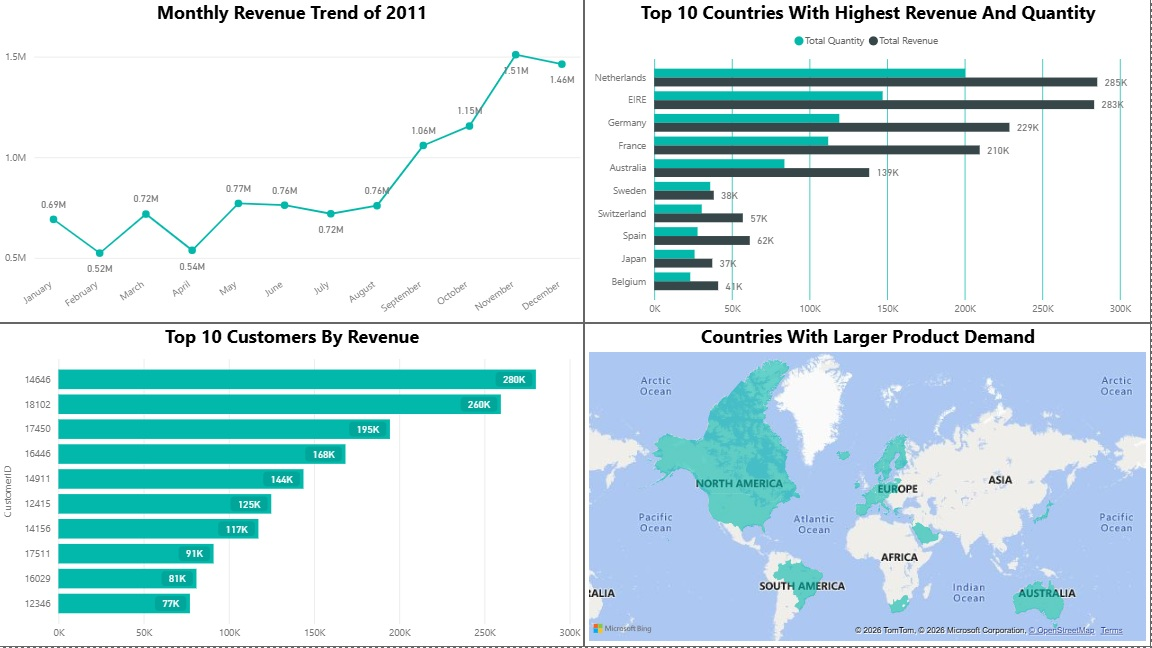

What the dashboard file says about the page in this screenshot:
{"tool":"powerbi","page":{"name":"Page 1","canvas":[1280,720],"ordinal":0},"visuals":[{"type":"lineChart","title":"Monthly Revenue Trend of 2011","fields":{"Y":["Online Retail.Total_Revenue"],"Category":["Online Retail.InvoiceDate.Variation.Date Hierarchy.Year","Online Retail.InvoiceDate.Variation.Date Hierarchy.Quarter","Online Retail.InvoiceDate.Variation.Date Hierarchy.Month","Online Retail.InvoiceDate.Variation.Date Hierarchy.Day"]},"box":[0,0,650,360],"z":0},{"type":"clusteredBarChart","title":"Top 10 Countries With Highest Revenue And Quantity","fields":{"Category":["Online Retail.Country"],"Y":["Sum(Online Retail.Quantity)","Online Retail.Total_Revenue"]},"box":[650,0,630,360],"z":1},{"type":"clusteredBarChart","title":"Top 10 Customers By Revenue","fields":{"Category":["Online Retail.CustomerID"],"Y":["Online Retail.Total_Revenue"]},"box":[0,360,650,360],"z":2},{"type":"filledMap","title":"Countries With Larger Product Demand ","fields":{"Category":["Online Retail.Country"]},"box":[650,360,630,360],"z":3}]}

Visuals, with their boxes in screenshot pixels (x1, y1, x2, y2), scaled from the page's 1280x720 canvas onto the 1152x648 screenshot:
"Monthly Revenue Trend of 2011" lineChart: {"left": 0, "top": 0, "right": 585, "bottom": 324}
"Top 10 Countries With Highest Revenue And Quantity" clusteredBarChart: {"left": 585, "top": 0, "right": 1151, "bottom": 324}
"Top 10 Customers By Revenue" clusteredBarChart: {"left": 0, "top": 324, "right": 585, "bottom": 647}
"Countries With Larger Product Demand " filledMap: {"left": 585, "top": 324, "right": 1151, "bottom": 647}
